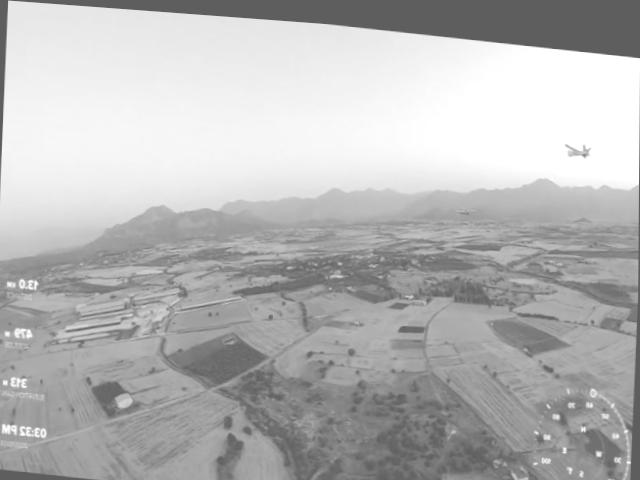hedef: (557, 126, 595, 158)
